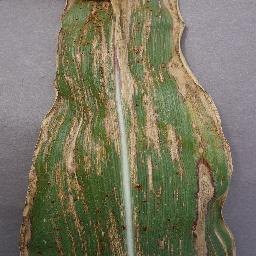Gray_Leaf_Spot: (17, 61, 238, 256), (54, 0, 189, 62)
